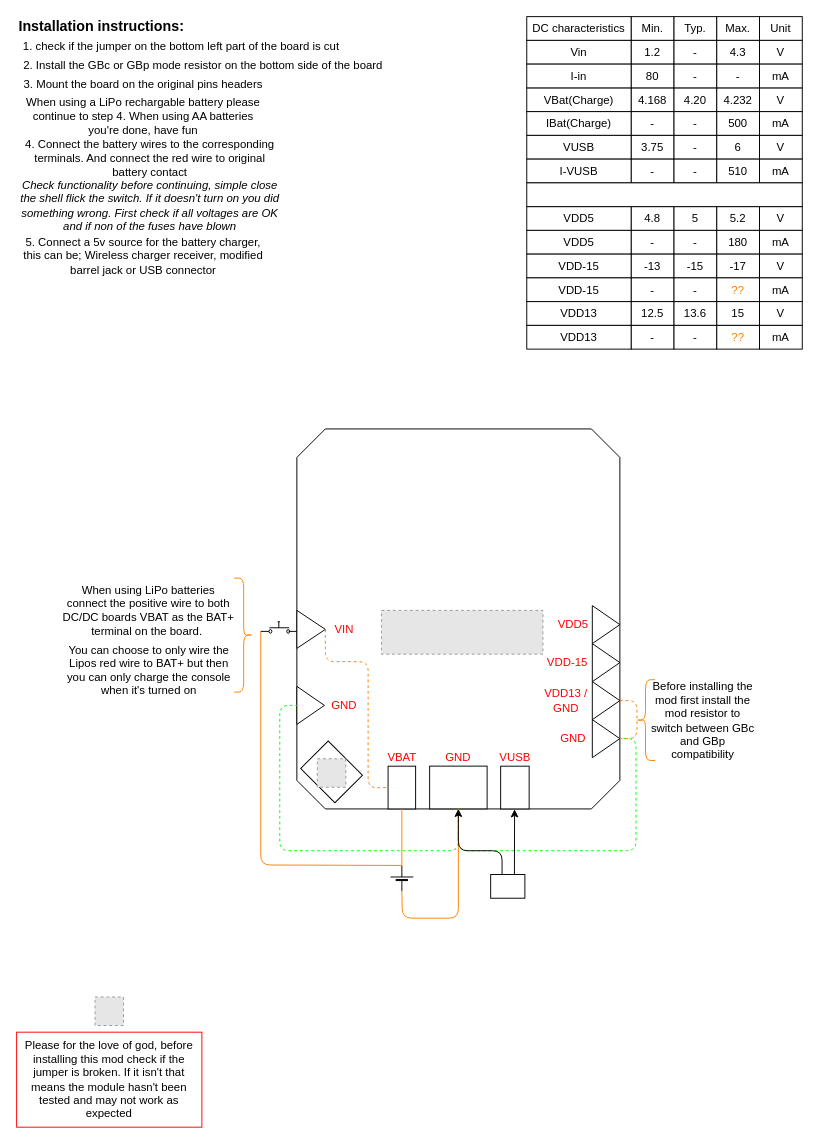
The diagram is 819 pixels wide and 1144 high, and some of its shapes have lost their labels. Grey dashed boxes stand in for pictures. The shapes that lost their labels are listed below. From the top down, each one's centre as x and y in pixels, then its label:
(x=664, y=194): Output rails
(x=507, y=886): 5v in
